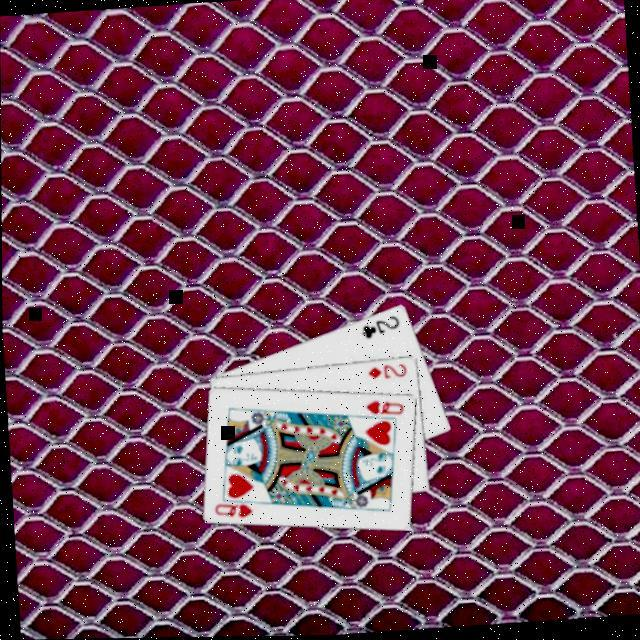2C: (360, 314, 405, 346)
2D: (366, 362, 411, 386)
QH: (212, 495, 263, 525), (364, 398, 408, 422)
